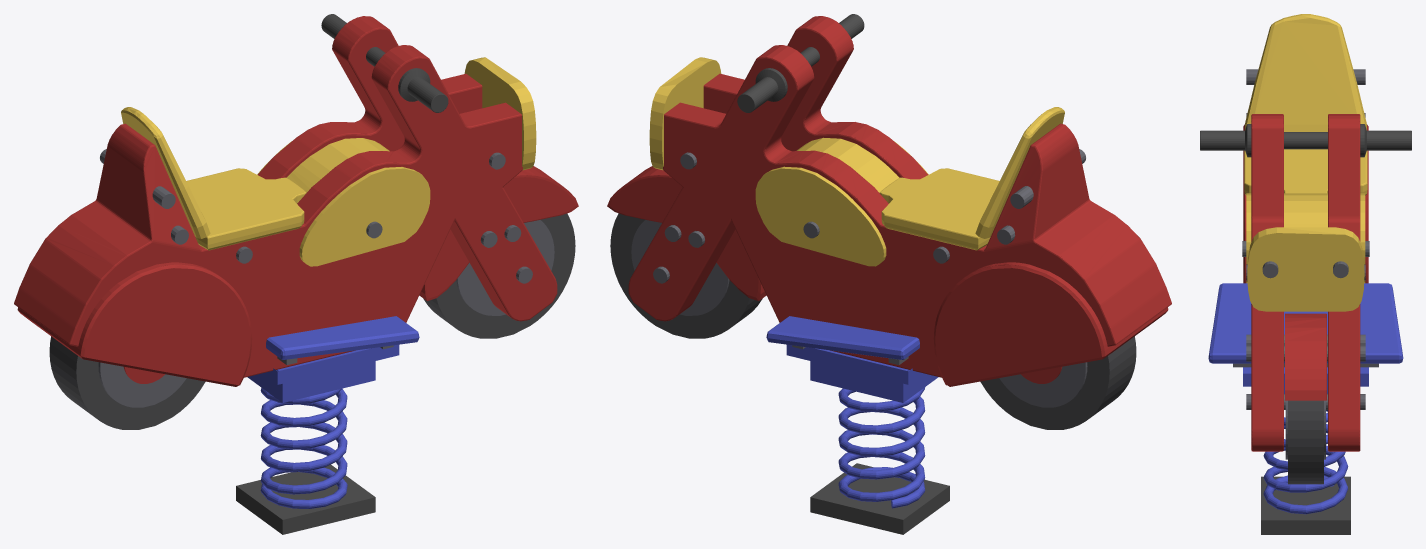
The model's file is motorbike.obj.
3 renders of one model, left to right at view 1: azimuth 30°, elevation 25°; view 2: azimuth 150°, elevation 25°; view 3: azimuth 270°, elevation 25°, orthographic. The views are drawn at different scales.
Visible parts, largest first — view 1: Motorbike; view 2: Motorbike; view 3: Motorbike.
Part boxes in pixels (x1=…): Motorbike: x1=14, y1=14, x2=578, y2=534; Motorbike: x1=607, y1=14, x2=1171, y2=534; Motorbike: x1=1200, y1=14, x2=1411, y2=534.
Bounding box in the file's own units: 91.44 × 74.6 × 32.98.
